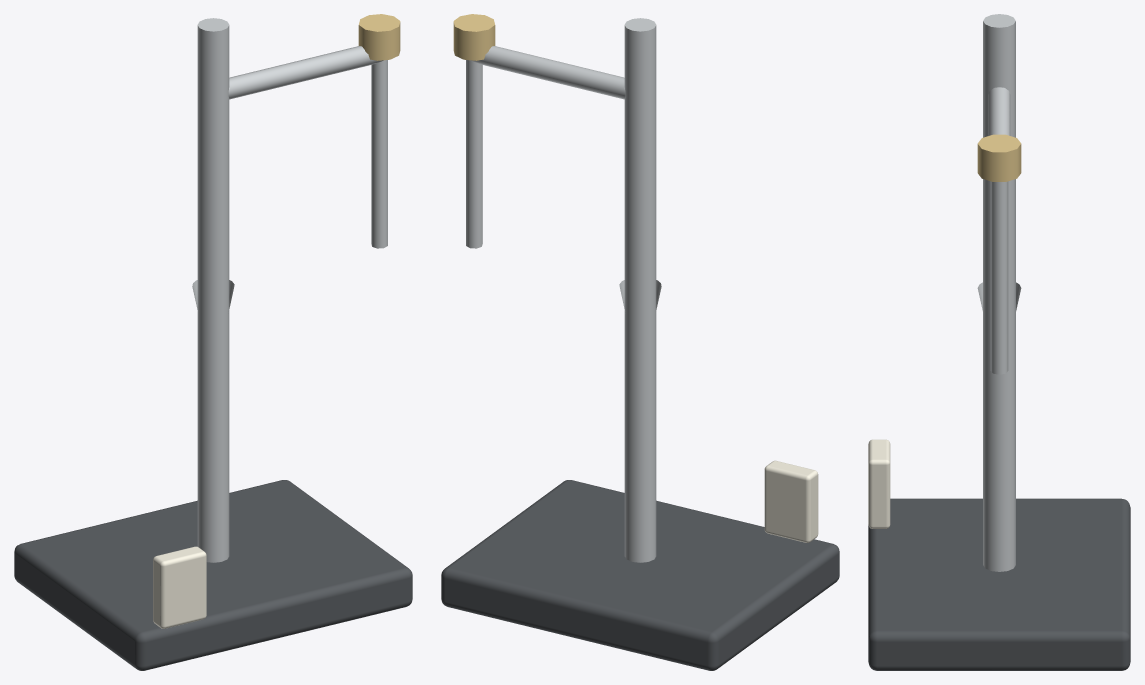
File: geotechnical-soil-testing-laboratory-laboratory-cone-p-15befa34__39060.glb
3 views of the same model, side by side, from view 1: azimuth 30°, elevation 25°; view 2: azimuth 150°, elevation 25°; view 3: azimuth 270°, elevation 25° (orthographic). The views are drawn at different scales.
Visible parts, largest first — view 1: laboratory-cone-penetrometer; view 2: laboratory-cone-penetrometer; view 3: laboratory-cone-penetrometer.
Boxes of the visible parts, left/top/right/bottom form: laboratory-cone-penetrometer: left=14, top=14, right=412, bottom=670; laboratory-cone-penetrometer: left=441, top=14, right=839, bottom=670; laboratory-cone-penetrometer: left=868, top=14, right=1130, bottom=670.
Size of the model in its own units: 0.349 by 0.59 by 0.24.
